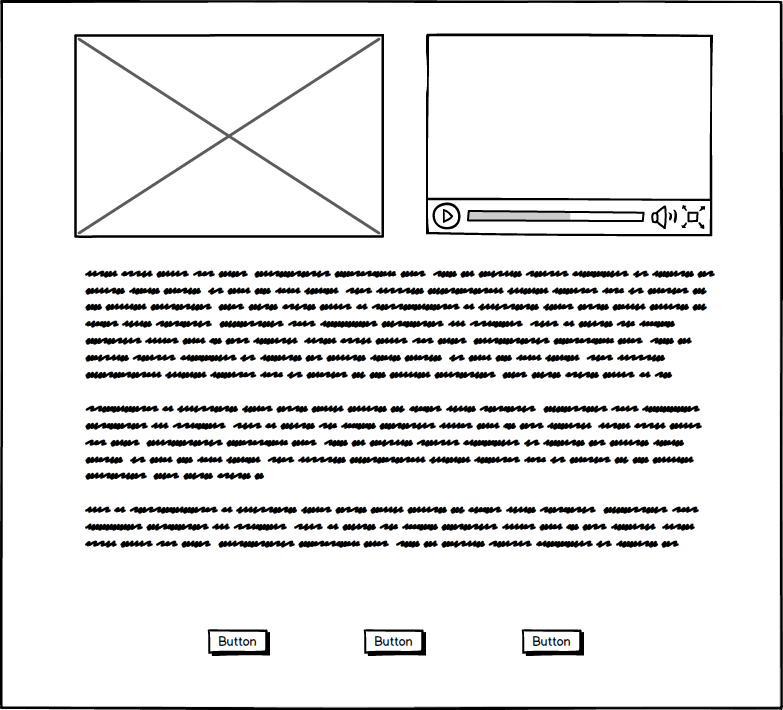button: (512, 623, 594, 662), (360, 623, 435, 661), (203, 625, 278, 659)
image: (68, 29, 391, 245)
p: (79, 265, 721, 558)
video: (422, 28, 720, 241)
